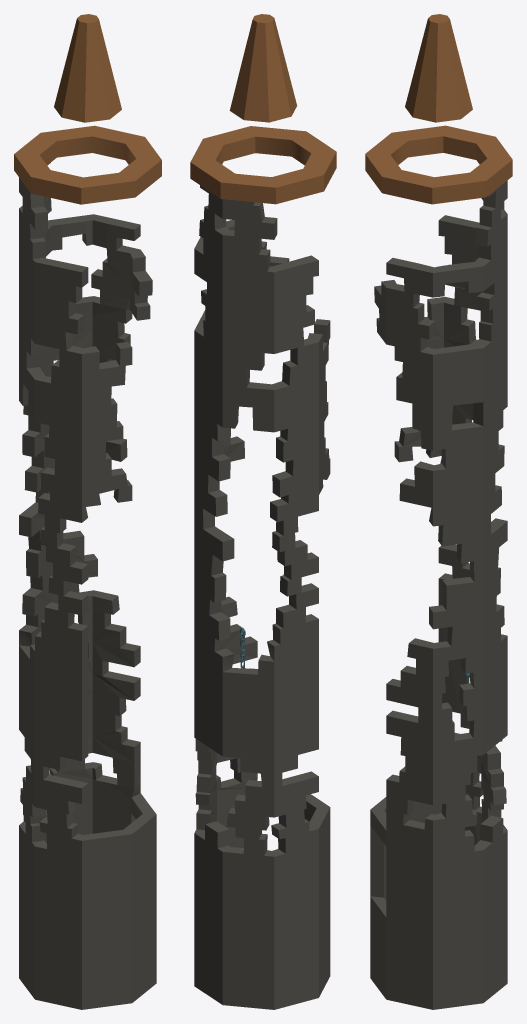
3 renders of one model, left to right at view 1: azimuth 90°, elevation 25°; view 2: azimuth 150°, elevation 25°; view 3: azimuth 270°, elevation 25°, orthographic.
Parts seen in each view (by area): view 1: Cylinder1438_wall_0, Cylinder1483_brown_0, Object144_brown_0; view 2: Cylinder1438_wall_0, Cylinder1483_brown_0, Object144_brown_0; view 3: Cylinder1438_wall_0, Cylinder1483_brown_0, Object144_brown_0.
Part boxes in pixels (bbox=[...]): Cylinder1438_wall_0: bbox=[19, 162, 156, 1009]; Cylinder1483_brown_0: bbox=[14, 125, 161, 204]; Object144_brown_0: bbox=[54, 14, 121, 122]; Cylinder1438_wall_0: bbox=[194, 185, 330, 1009]; Cylinder1483_brown_0: bbox=[190, 126, 336, 204]; Object144_brown_0: bbox=[229, 14, 297, 122]; Cylinder1438_wall_0: bbox=[370, 180, 507, 1009]; Cylinder1483_brown_0: bbox=[365, 125, 512, 204]; Object144_brown_0: bbox=[405, 14, 472, 122].
Size of the model in its own units: 428 by 3078 by 428.
